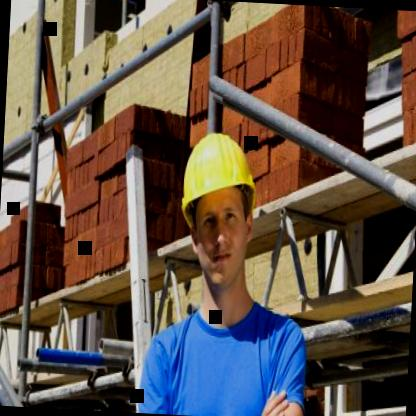helmet: (164, 114, 270, 299)
